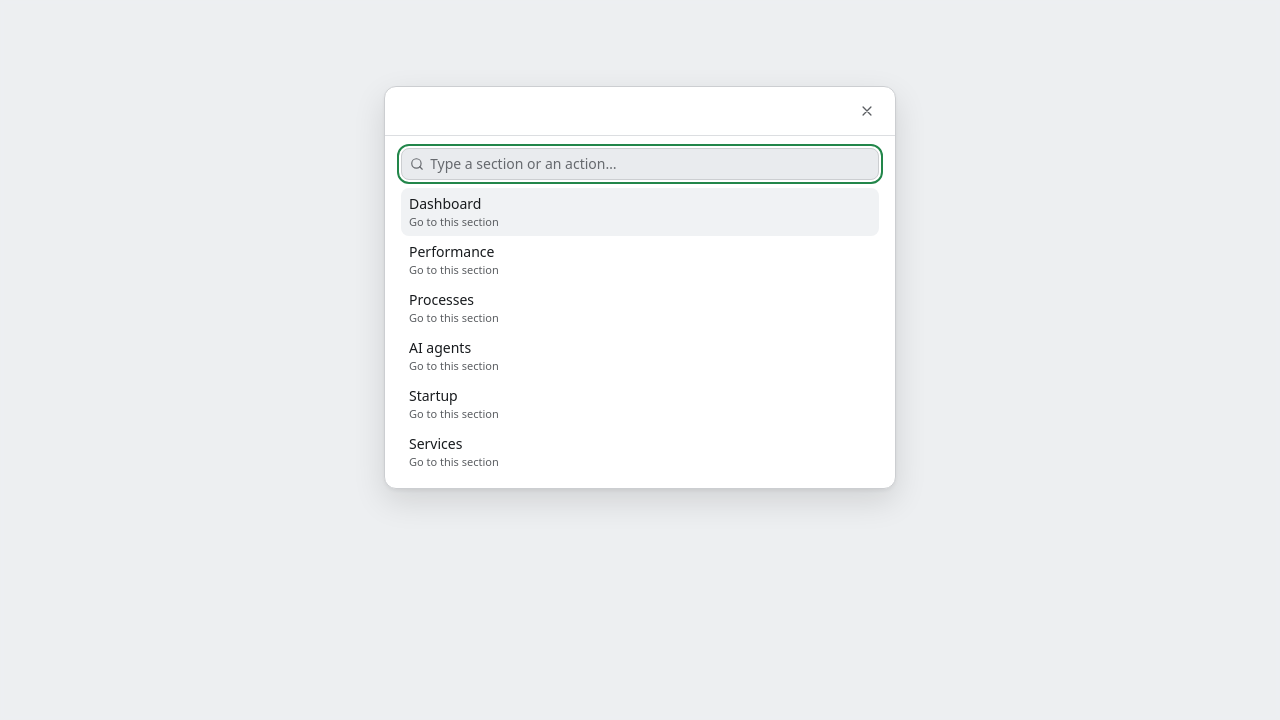
it: CommandPalette › says so when nothing matches, rather than showing an empty box
Type "zzzz" into the dropdown at (650, 164), box [430,154,870,174]
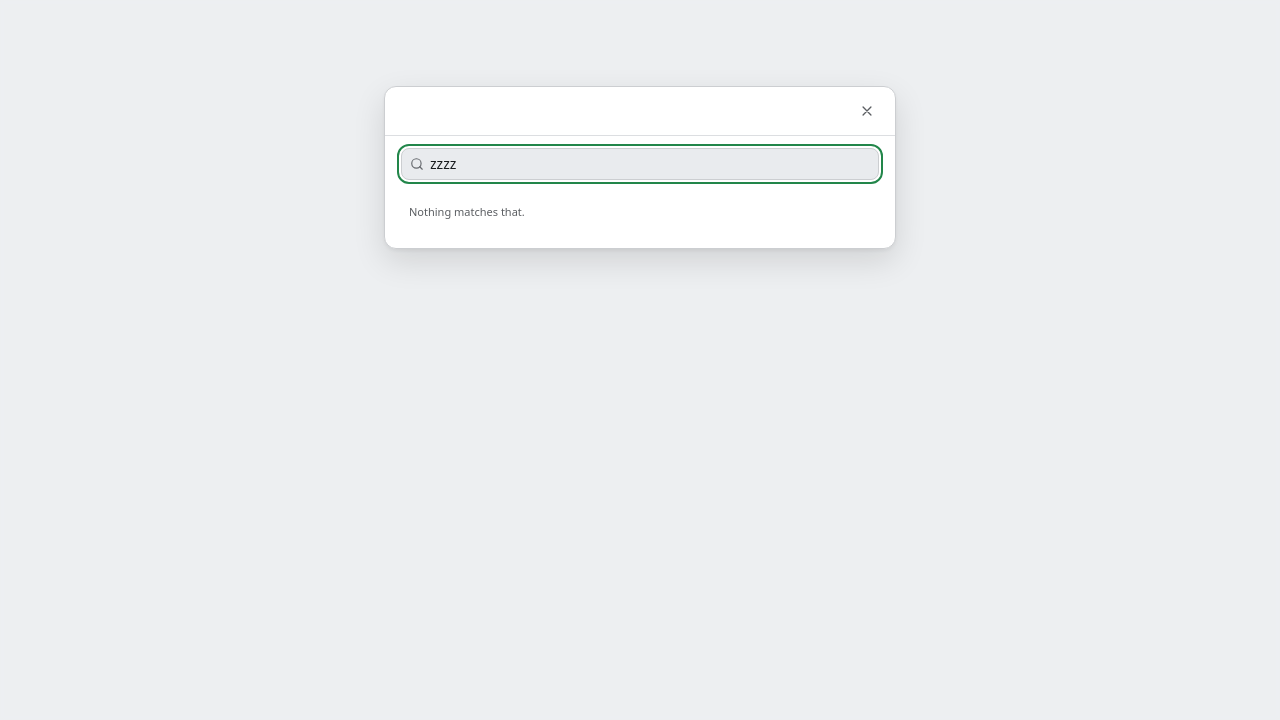
Expected: no options are shown
Expected: the message shows "Nothing matches", [409,204,525,219]
